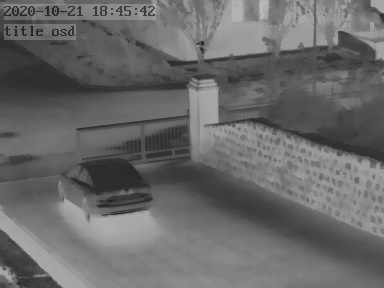vehicle: (56, 156, 156, 217)
